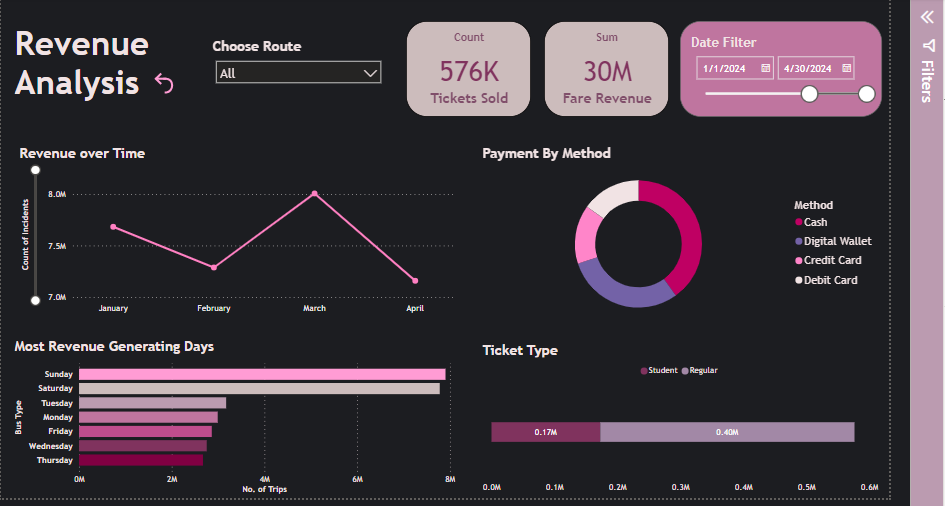

The dashboard page shown, as its layout file describes it:
{"tool":"powerbi","page":{"name":"Revenue Analysis","canvas":[1280,720],"ordinal":3},"visuals":[{"type":"lineChart","title":"Revenue over Time","fields":{"Category":["public Fact Table Snapshot.DateID.Variation.Date Hierarchy.Year","public Fact Table Snapshot.DateID.Variation.Date Hierarchy.Quarter","public Fact Table Snapshot.DateID.Variation.Date Hierarchy.Month","public Fact Table Snapshot.DateID.Variation.Date Hierarchy.Day"],"Y":["Sum(public Fact Table Snapshot.TotalFare)"]},"box":[21.6,211.7,637.9,262.1],"z":0},{"type":"textbox","box":[14.4,31.7,247.7,125.3],"z":1000},{"type":"slicer","title":"Date Filter","fields":{"Values":["public Fact Table Snapshot.DateID"]},"box":[977.8,33.1,290.9,138.2],"z":2000},{"type":"donutChart","title":"Payment By Method","fields":{"Y":["Sum(public Fact Table Snapshot.CashCount)","Sum(public Fact Table Snapshot.WalletCount)","Sum(public Fact Table Snapshot.CreditCount)","Sum(public Fact Table Snapshot.DebitCount)"]},"box":[688.3,211.7,580.3,262.1],"z":3000},{"type":"card","fields":{"Values":["Sum(public Fact Table Snapshot.TotalFare)"]},"box":[781.9,33.1,180,138.2],"z":4000},{"type":"card","fields":{"Values":["Sum(public Fact Table Snapshot.TotalTickets)"]},"box":[583.2,33.1,180,138.2],"z":5000},{"type":"barChart","title":"Ticket Type","fields":{"Y":["Sum(public Fact Table Snapshot.TypeStudent)","Sum(public Fact Table Snapshot.TypeRegular)"]},"box":[688.3,489.6,580.3,230.4],"z":6000},{"type":"slicer","title":"Choose Route","fields":{"Values":["public Fact Table Snapshot.RouteName"]},"box":[299.5,57.6,257.8,89.3],"z":7000},{"type":"barChart","title":"Most Revenue Generating Days","fields":{"Category":["public Fact Table Snapshot.DayOfWeekName"],"Y":["Sum(public Fact Table Snapshot.TotalFare)"]},"box":[14.4,489.6,645.1,230.4],"z":8000},{"type":"actionButton","box":[214.6,102.2,47.5,40.3],"z":9000}]}

Visuals, with their boxes on the page's 1280x720 design canvas (x1, y1, x2, y2). These are canvas units, not pixel positions in the 945x506 screenshot, which may show the page scaled, cropped or inside an application window:
"Revenue over Time" lineChart: [22, 212, 660, 474]
textbox: [14, 32, 262, 157]
"Date Filter" slicer: [978, 33, 1269, 171]
"Payment By Method" donutChart: [688, 212, 1269, 474]
card - Sum(public Fact Table Snapshot.TotalFare): [782, 33, 962, 171]
card - Sum(public Fact Table Snapshot.TotalTickets): [583, 33, 763, 171]
"Ticket Type" barChart: [688, 490, 1269, 720]
"Choose Route" slicer: [300, 58, 557, 147]
"Most Revenue Generating Days" barChart: [14, 490, 660, 720]
actionButton: [215, 102, 262, 142]
